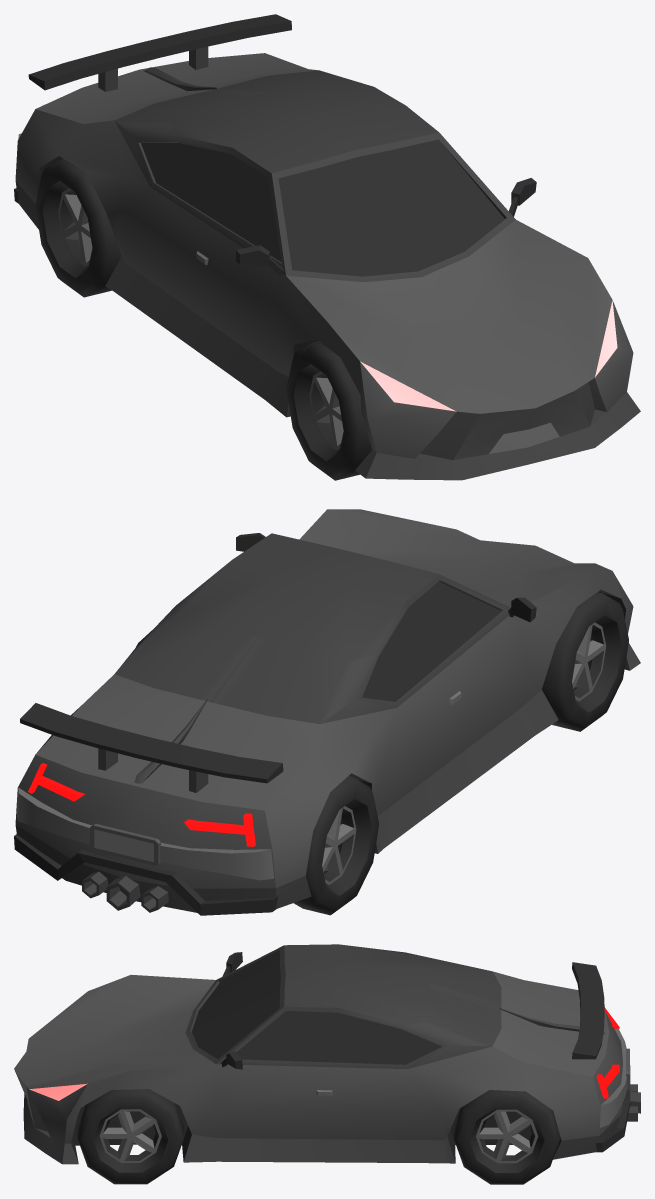
The model's file is car_cube029.glb.
3 renders of one model, top to bottom at view 1: azimuth 30°, elevation 25°; view 2: azimuth 150°, elevation 25°; view 3: azimuth 270°, elevation 25°, orthographic. The views are drawn at different scales.
Visible parts, largest first — view 1: Cube.029, Cylinder.034, Cylinder.036, Cube.033, Cube.030, Cube.032; view 2: Cube.029, Cylinder.034, Cylinder.036, Cube.033, Cube.120, Cube.121, Cube.133, Cube.119, Cylinder.037, Cube.030, Cylinder.035, Cube.032 (+1 smaller); view 3: Cube.029, Cylinder.034, Cylinder.036, Cube.033, Cube.120, Cube.121, Cube.030, Cube.119, Cube.122.
Boxes of the visible parts, <box> form: Cube.029: <box>15,53,640,480</box>; Cylinder.034: <box>286,341,372,480</box>; Cylinder.036: <box>35,158,121,297</box>; Cube.033: <box>28,14,291,90</box>; Cube.030: <box>236,178,536,276</box>; Cube.032: <box>98,46,208,91</box>; Cube.029: <box>15,509,640,912</box>; Cylinder.034: <box>542,592,628,731</box>; Cylinder.036: <box>293,776,379,915</box>; Cube.033: <box>20,703,283,783</box>; Cube.120: <box>16,787,274,880</box>; Cube.121: <box>14,834,278,915</box>; Cube.133: <box>90,823,160,865</box>; Cube.119: <box>28,763,255,846</box>; Cylinder.037: <box>82,871,168,912</box>; Cube.030: <box>236,533,536,622</box>; Cylinder.035: <box>106,876,140,910</box>; Cube.032: <box>98,748,208,792</box>; Cube.029: <box>14,944,622,1164</box>; Cylinder.034: <box>77,1089,184,1184</box>; Cylinder.036: <box>453,1090,560,1184</box>; Cube.033: <box>572,962,604,1059</box>; Cube.120: <box>600,1028,627,1127</box>; Cube.121: <box>595,1065,630,1152</box>; Cube.030: <box>221,952,242,1069</box>; Cube.119: <box>596,1007,619,1098</box>; Cube.122: <box>499,1008,605,1034</box>.
Bounding box in the file's own units: 1.97 × 1.38 × 4.79.
2 materials, 2 textured.
